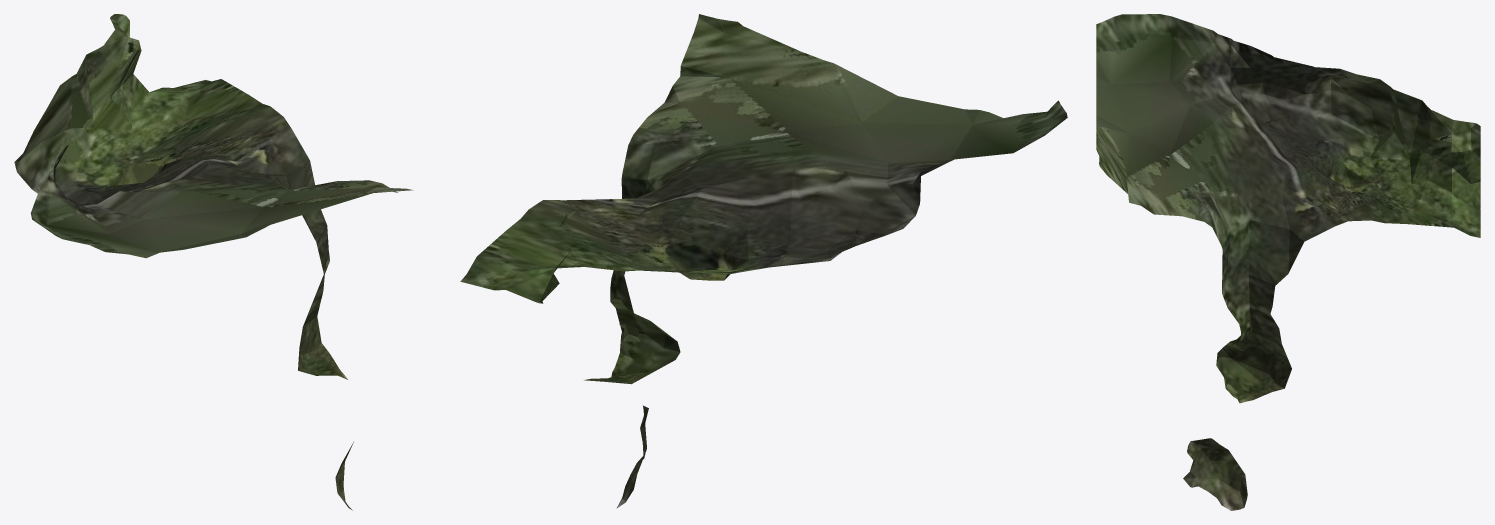
3 views of the same model, side by side, from view 1: azimuth 30°, elevation 25°; view 2: azimuth 150°, elevation 25°; view 3: azimuth 270°, elevation 25° (orthographic). The views are drawn at different scales.
Size of the model in its own units: 2.72 by 2.94 by 2.95.
Materials: 3 (3 with a texture image).
